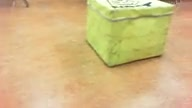cube: (85, 1, 175, 68)
